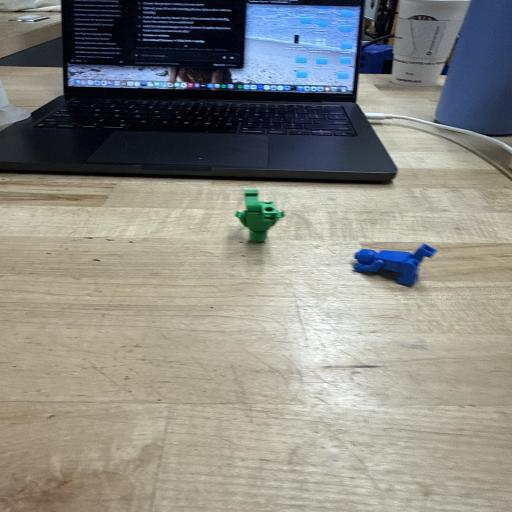blue-minifig: (354, 244, 437, 286)
green-minifig: (236, 190, 284, 242)
